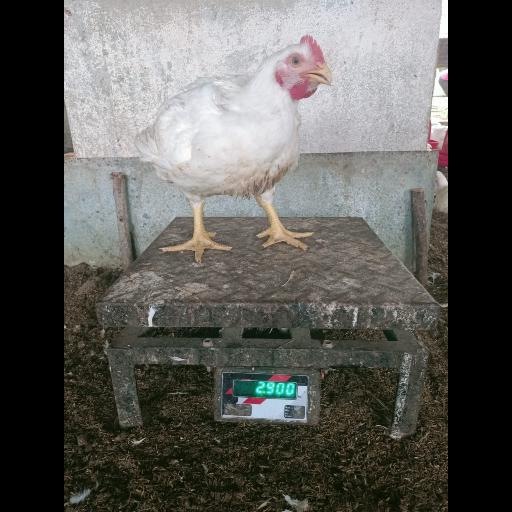chick: (137, 34, 332, 264)
